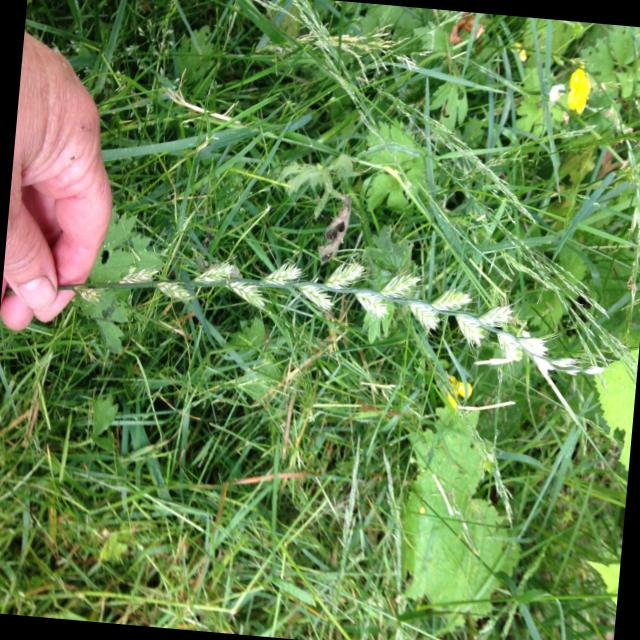Lolium: (66, 244, 611, 396)
